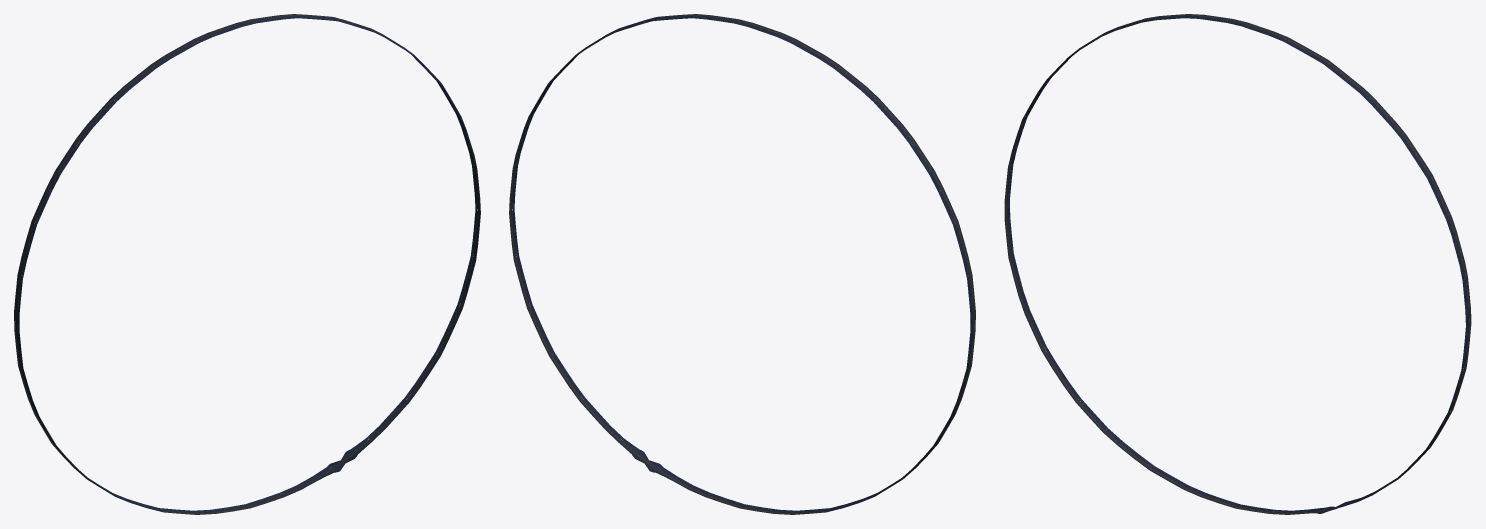
File: Road.fbx
3 renders of one model, left to right at view 1: azimuth 30°, elevation 25°; view 2: azimuth 150°, elevation 25°; view 3: azimuth 330°, elevation 25°, orthographic.
Parts seen in each view (by area): view 1: street-2L_cgcookie; view 2: street-2L_cgcookie; view 3: street-2L_cgcookie.
Boxes of the visible parts, box(x1,y1,x2,y2) form: street-2L_cgcookie: box(14, 14, 480, 514); street-2L_cgcookie: box(509, 14, 975, 514); street-2L_cgcookie: box(1004, 14, 1471, 514).
Bounding box in the file's own units: 18780 × 18791 × 705.
